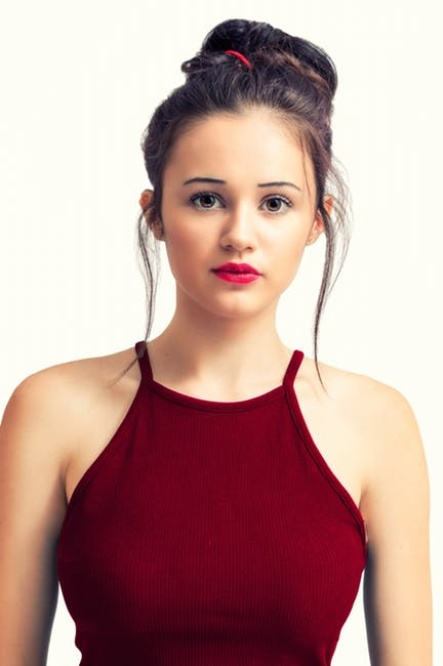face: (163, 112, 313, 313)
